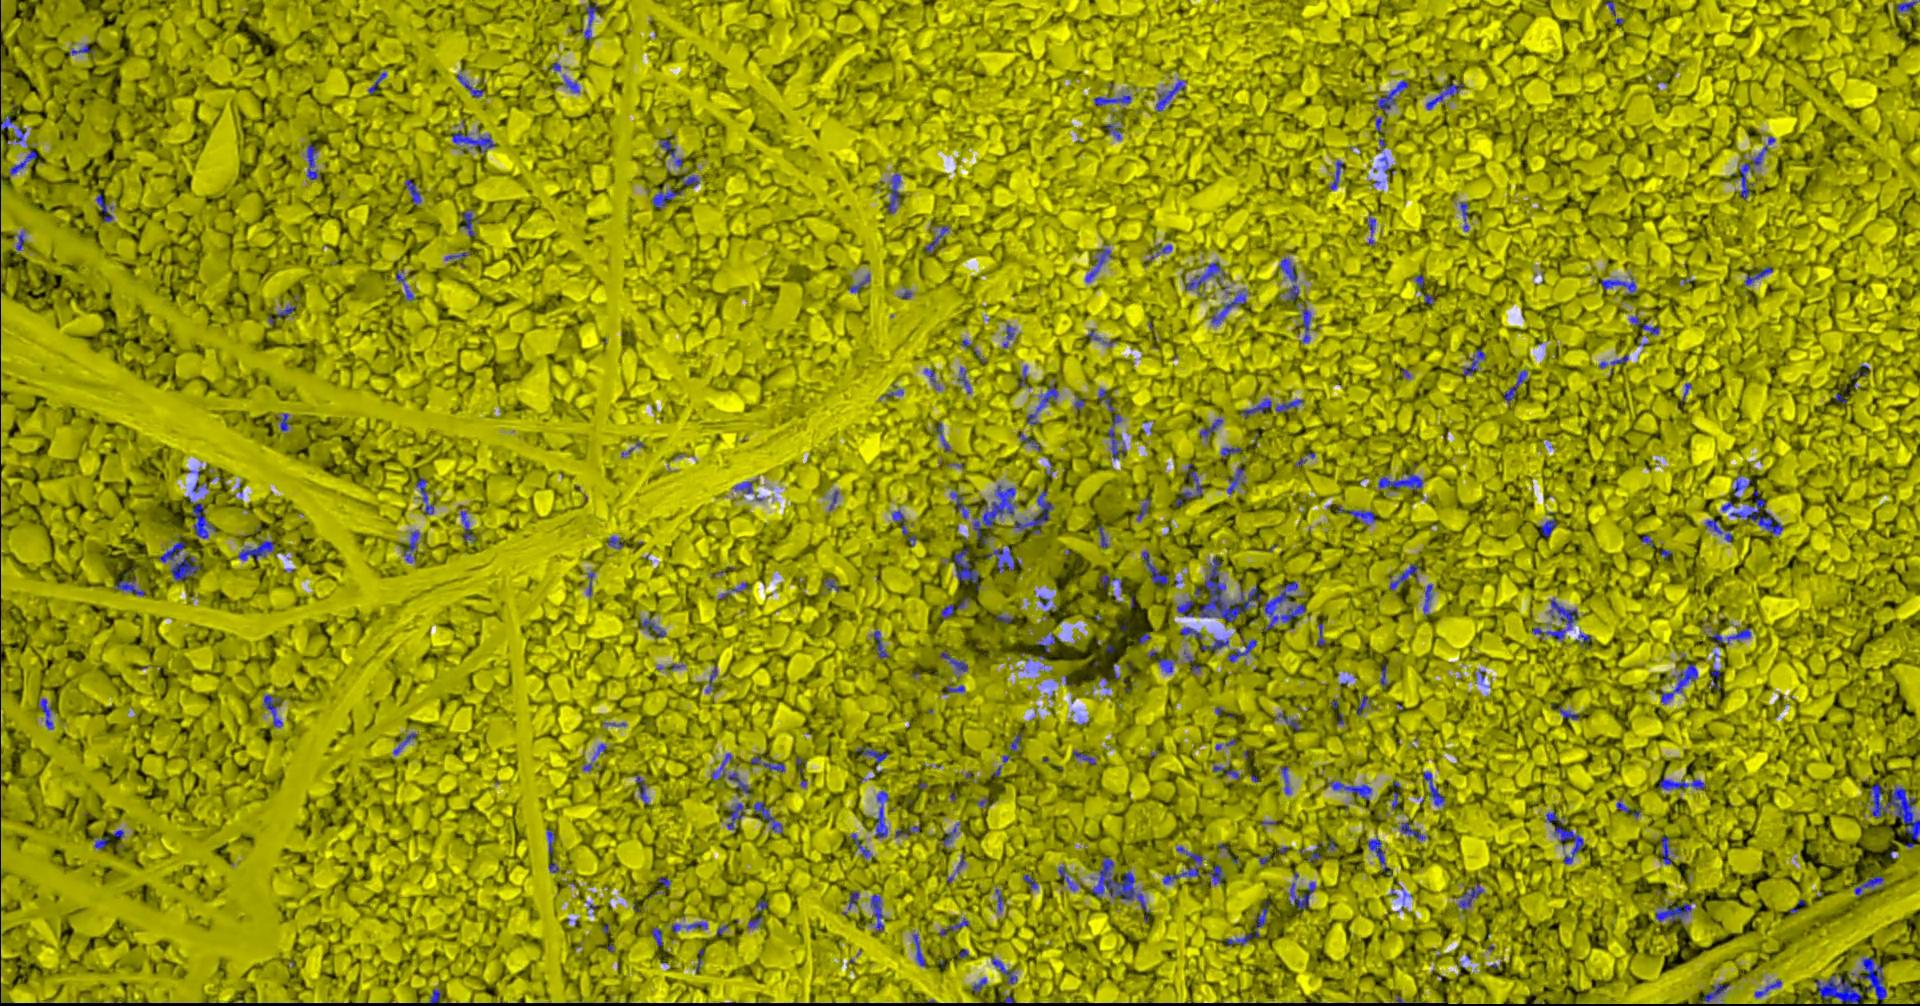ant: (1092, 857, 1150, 921), (975, 484, 1018, 545), (1732, 490, 1785, 533), (1098, 387, 1128, 459), (1225, 901, 1271, 945), (1547, 810, 1585, 862), (1533, 598, 1578, 639), (1015, 489, 1055, 533), (160, 541, 201, 580), (1740, 145, 1769, 199), (1817, 972, 1863, 1005), (712, 753, 750, 793), (1662, 663, 1699, 702), (1164, 846, 1204, 883), (1377, 79, 1410, 117), (1186, 260, 1225, 292), (1029, 384, 1059, 424), (1859, 956, 1888, 998), (1176, 464, 1204, 506), (1211, 292, 1247, 324), (955, 547, 982, 589), (1427, 81, 1465, 109), (1369, 836, 1394, 876), (1143, 550, 1170, 588), (453, 130, 497, 152), (1157, 79, 1187, 111), (1380, 469, 1423, 490), (1280, 257, 1300, 301), (893, 509, 918, 545), (756, 801, 783, 833), (1086, 248, 1112, 281), (988, 545, 1021, 572), (193, 503, 217, 539), (1332, 780, 1373, 800), (1390, 563, 1421, 589), (1423, 771, 1446, 805), (11, 146, 39, 174), (1505, 370, 1529, 401), (1337, 506, 1377, 525), (239, 540, 276, 560), (858, 747, 890, 770), (1291, 882, 1317, 909), (417, 478, 436, 514), (1657, 902, 1693, 921), (993, 956, 1018, 983), (1707, 518, 1735, 542), (876, 790, 890, 837), (583, 0, 599, 39), (926, 225, 950, 251), (1460, 883, 1484, 909), (457, 74, 485, 97), (750, 754, 786, 772), (117, 573, 146, 594), (942, 597, 971, 619), (1229, 639, 1258, 661), (265, 694, 284, 727), (653, 188, 683, 208), (1630, 314, 1661, 334), (1464, 348, 1487, 375), (1713, 627, 1752, 643), (1242, 398, 1272, 417), (888, 173, 902, 213), (941, 650, 969, 671), (1857, 875, 1884, 895), (1661, 776, 1705, 789), (1745, 265, 1774, 285), (397, 271, 417, 300), (1600, 353, 1629, 372), (395, 732, 419, 754), (1059, 866, 1082, 890), (1298, 302, 1312, 342), (1603, 277, 1638, 292), (952, 489, 970, 518), (1704, 983, 1731, 1002), (940, 918, 970, 935), (872, 893, 885, 932), (1228, 466, 1246, 494), (728, 801, 745, 829), (852, 833, 872, 857), (405, 530, 420, 561), (641, 617, 667, 636), (1756, 979, 1783, 997), (462, 511, 477, 541), (1402, 822, 1427, 840), (1330, 160, 1345, 189), (936, 422, 951, 451), (406, 178, 423, 205), (98, 194, 114, 221), (1201, 418, 1224, 437), (1277, 713, 1302, 730), (874, 630, 889, 658), (1095, 94, 1131, 105), (914, 934, 927, 967), (1205, 864, 1225, 884), (370, 72, 389, 94), (850, 273, 871, 292), (309, 144, 320, 179), (1735, 475, 1752, 498), (1214, 763, 1241, 779), (42, 699, 55, 729), (462, 211, 476, 236), (1277, 399, 1305, 412), (1203, 638, 1230, 650), (637, 776, 650, 804), (959, 367, 971, 392), (1138, 497, 1152, 520), (1074, 749, 1097, 763), (1542, 518, 1558, 537), (1423, 584, 1434, 615), (1662, 835, 1672, 864), (1102, 573, 1120, 589), (70, 43, 95, 55), (662, 138, 677, 158), (1159, 657, 1178, 672), (1559, 705, 1580, 719), (943, 826, 957, 846), (897, 826, 921, 837), (1182, 626, 1204, 639), (1897, 0, 1920, 11), (1004, 324, 1016, 347), (1462, 202, 1470, 231), (1283, 765, 1291, 794), (565, 75, 580, 91), (1106, 123, 1123, 138), (1368, 217, 1377, 245), (1357, 694, 1369, 715), (1, 116, 14, 135), (1098, 525, 1109, 547), (1023, 874, 1039, 889), (974, 977, 988, 993), (1011, 733, 1023, 751), (549, 828, 556, 857), (653, 927, 664, 946), (825, 577, 841, 591), (1578, 631, 1591, 648), (737, 481, 754, 493), (850, 890, 860, 909), (1222, 447, 1243, 456), (610, 536, 626, 547), (1382, 663, 1389, 687), (281, 413, 291, 431), (97, 836, 110, 848), (430, 989, 442, 1005), (683, 175, 700, 185)
